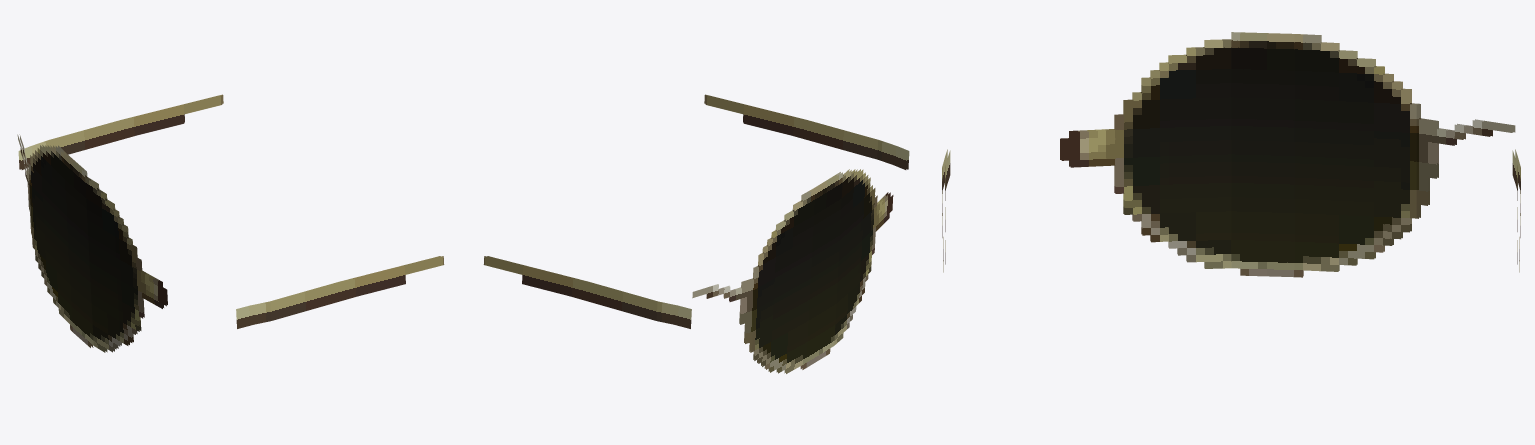
The model's file is Rabbit_starGlasses.obj.
3 renders of one model, left to right at view 1: azimuth 30°, elevation 25°; view 2: azimuth 150°, elevation 25°; view 3: azimuth 270°, elevation 25°, orthographic. The views are drawn at different scales.
Visible parts, largest first — view 1: Rabbit_starGlasses_tri; view 2: Rabbit_starGlasses_tri; view 3: Rabbit_starGlasses_tri.
Boxes of the visible parts, left/top/right/bottom form: Rabbit_starGlasses_tri: left=17, top=94, right=444, bottom=352; Rabbit_starGlasses_tri: left=483, top=94, right=909, bottom=373; Rabbit_starGlasses_tri: left=942, top=32, right=1520, bottom=277.
Bounding box in the file's own units: 0.113 × 0.0893 × 0.1702.
Materials: 1 (1 with a texture image).
